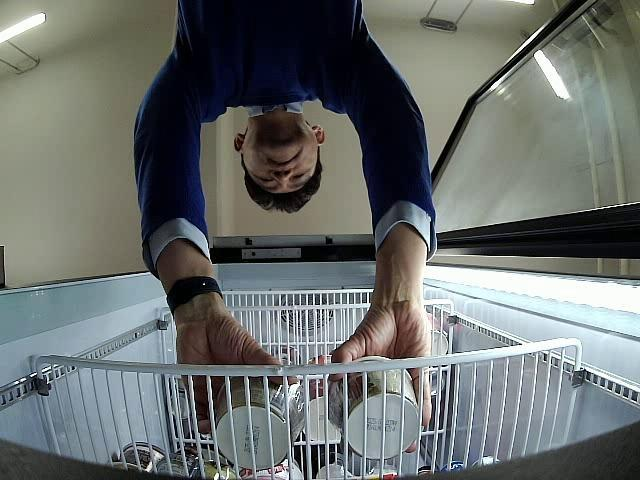04_chapagetti_S: (328, 356, 418, 461), (215, 376, 306, 470)
